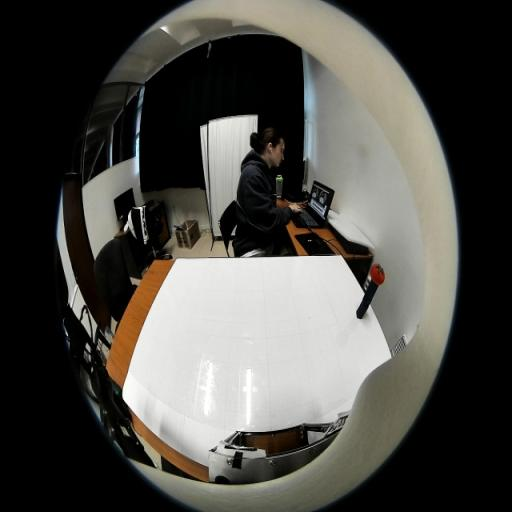Tomato: (370, 263, 385, 285)
